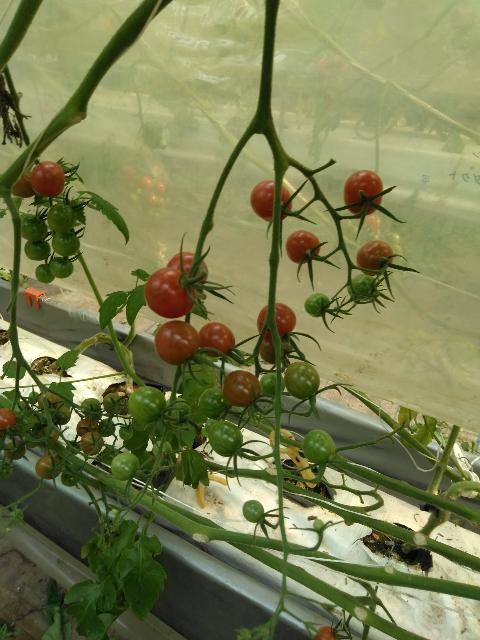l_fully_ripened: (144, 267, 196, 318), (344, 169, 383, 217), (249, 180, 292, 222), (257, 302, 296, 345), (167, 251, 208, 291), (199, 321, 235, 358), (31, 161, 65, 198), (0, 408, 17, 435), (313, 625, 339, 640)
l_green: (283, 361, 320, 400), (127, 386, 166, 423), (208, 421, 243, 458), (303, 429, 336, 464), (197, 387, 232, 419), (48, 203, 77, 232), (347, 273, 377, 301), (111, 452, 139, 482), (21, 214, 48, 242), (260, 371, 285, 400), (52, 232, 80, 257), (304, 292, 330, 318), (242, 499, 265, 524), (49, 256, 73, 279), (24, 240, 50, 261), (61, 465, 82, 487), (3, 440, 26, 460), (102, 392, 122, 415), (153, 440, 173, 461), (35, 264, 56, 283), (97, 418, 116, 438), (80, 398, 102, 415), (18, 413, 36, 432), (102, 447, 119, 464), (131, 417, 149, 431), (0, 460, 13, 479), (9, 508, 23, 523), (119, 425, 133, 439), (28, 391, 40, 404), (313, 519, 323, 532), (112, 506, 121, 516)
l_half_ripened: (154, 320, 200, 365), (221, 370, 262, 407), (356, 240, 393, 276), (285, 230, 320, 265), (259, 336, 292, 365), (12, 168, 37, 198), (35, 455, 61, 480), (79, 431, 104, 455), (76, 418, 98, 437), (38, 392, 60, 411)
